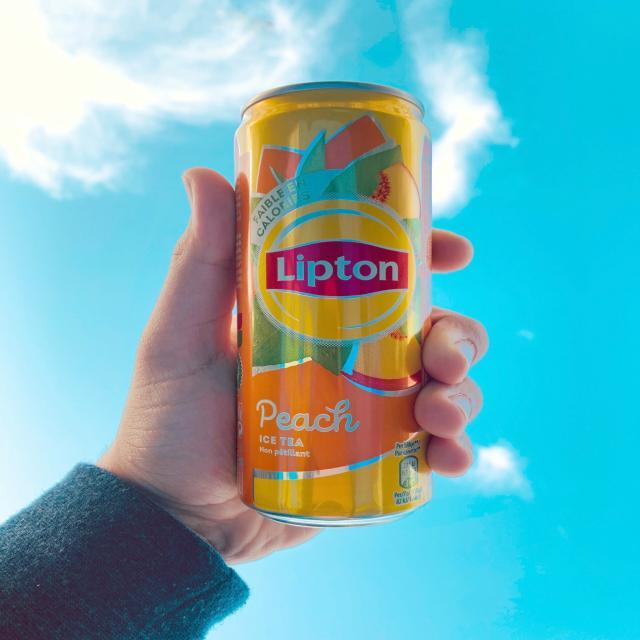can: (178, 60, 456, 570)
